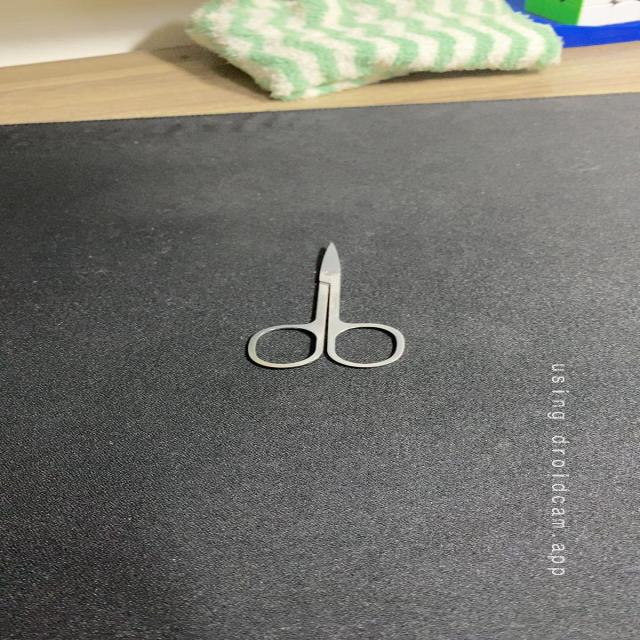scissor: (240, 236, 407, 373)
